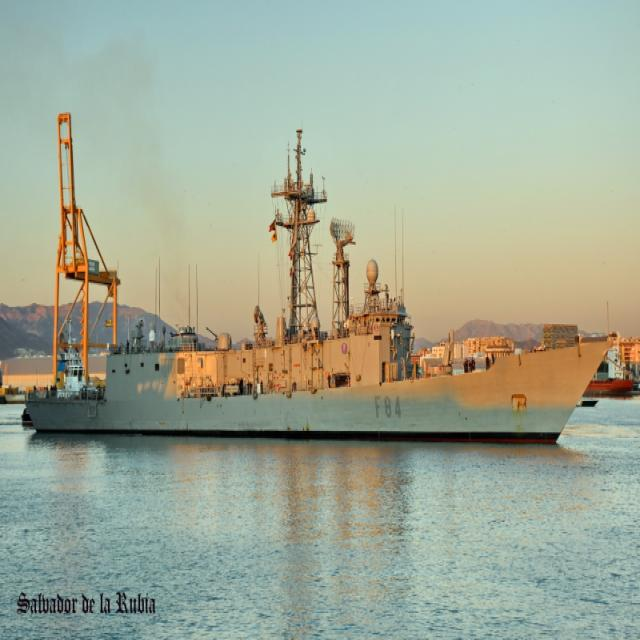Fragata: (24, 127, 619, 452)
